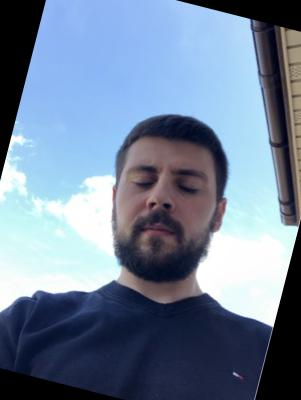without_mask: (100, 145, 226, 293)
